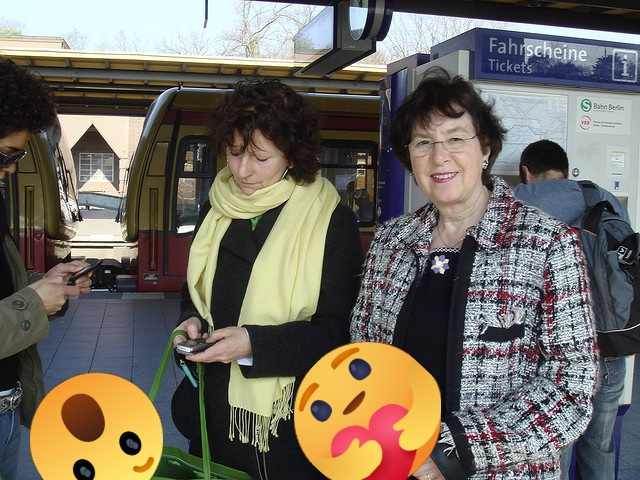care: (294, 342, 441, 480)
wow: (30, 373, 163, 480)
